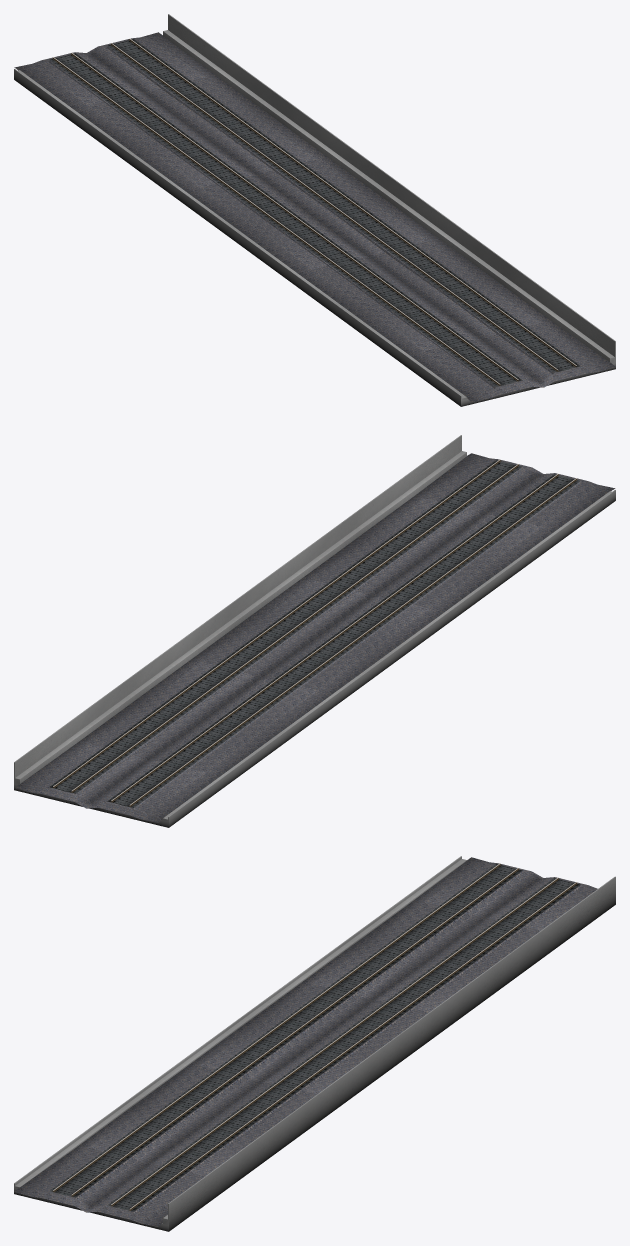
Rendered from 2RAIL_KONKURI_KYO2.glb.
3 views of the same model, one above another, from view 1: azimuth 30°, elevation 25°; view 2: azimuth 150°, elevation 25°; view 3: azimuth 330°, elevation 25° (orthographic).
Visible parts, largest first — view 1: frame01; view 2: frame01; view 3: frame01.
Part boxes in pixels (x1,y1,x2,y2): frame01: (14,14,615,406); frame01: (14,435,615,827); frame01: (14,856,615,1231).
Bounding box in the file's own units: 40 × 6.88 × 205.
Materials: 4 (3 with a texture image).
